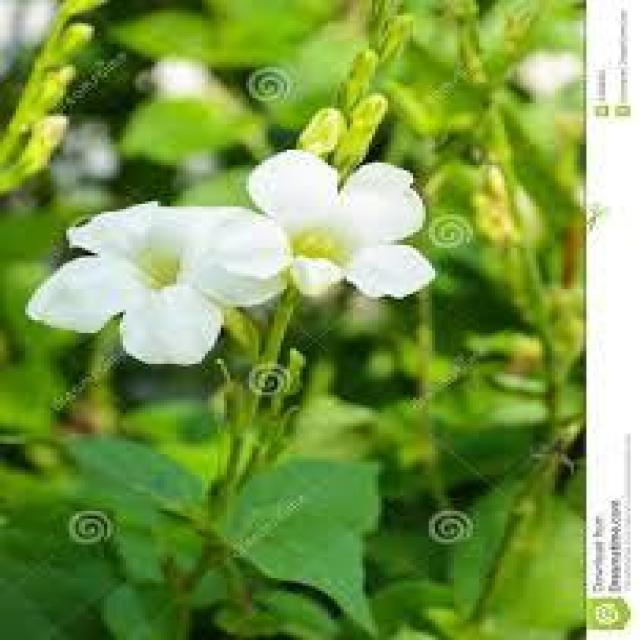organic waste: (41, 200, 281, 378), (244, 138, 443, 316)
